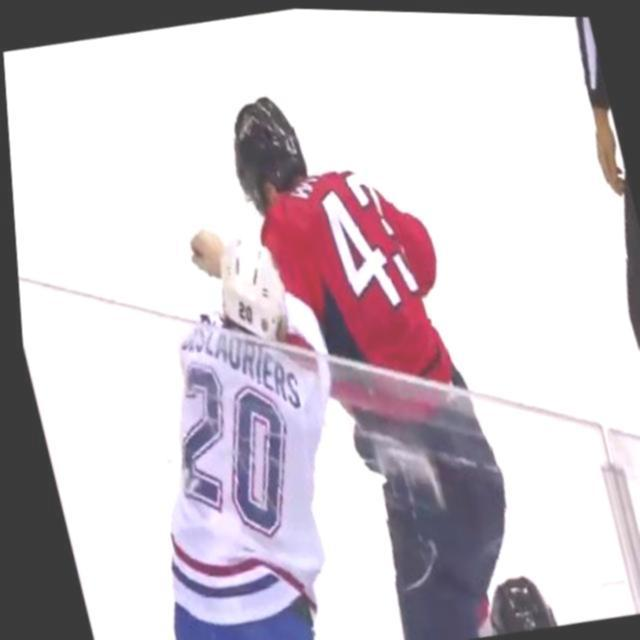fight: (68, 62, 532, 640)
